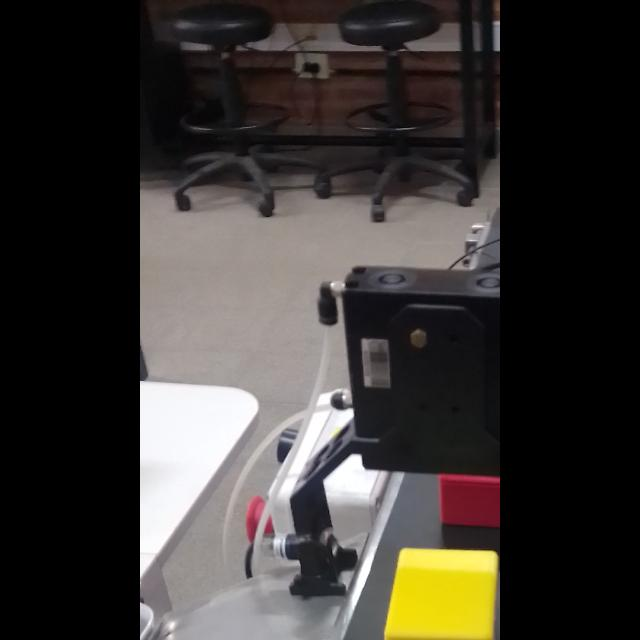redBox: (422, 450, 500, 540)
yellowBox: (368, 538, 499, 640)
